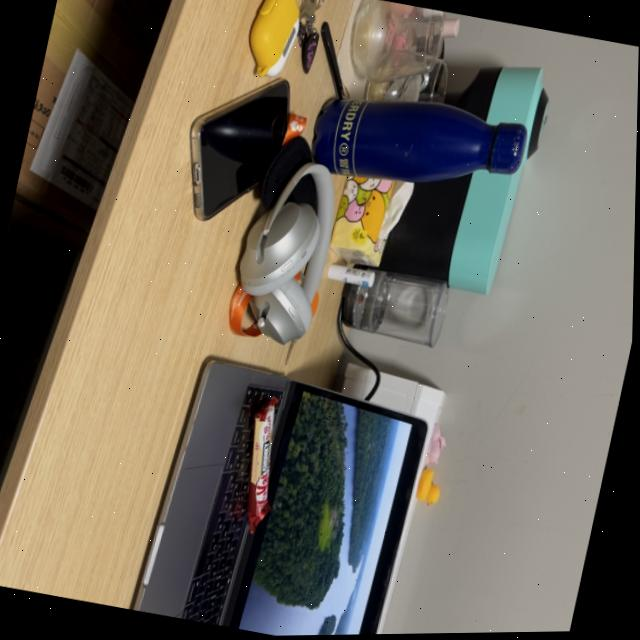chocolate: (225, 384, 305, 547)
